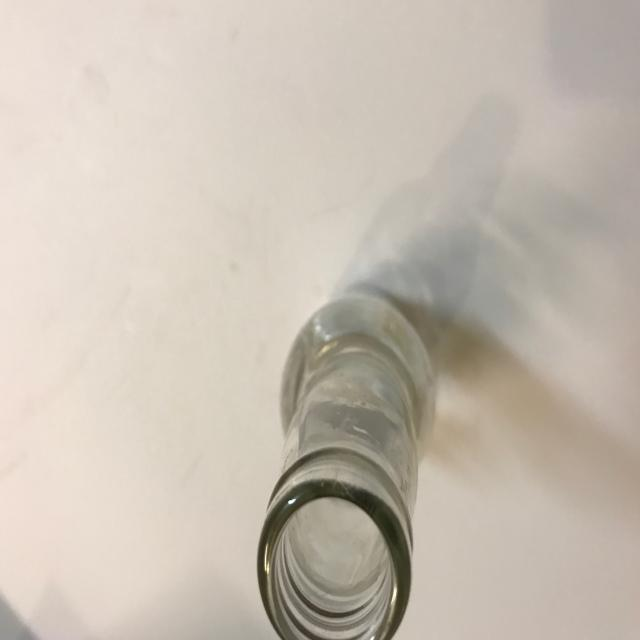glass: (256, 90, 526, 640)
